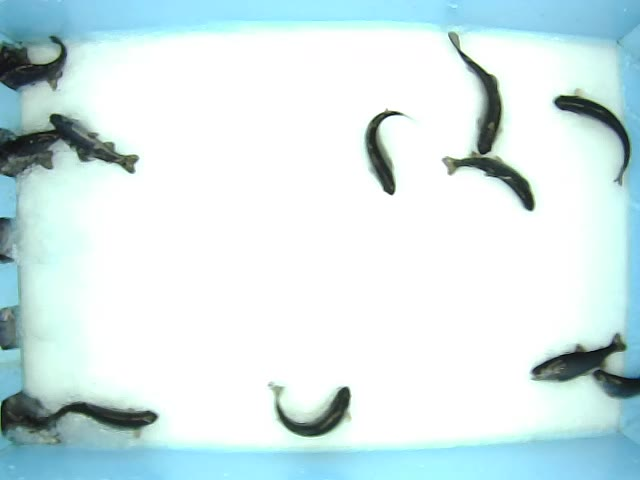fish: (549, 89, 633, 187), (447, 29, 503, 155), (441, 149, 538, 213), (49, 109, 140, 175), (528, 330, 628, 384), (42, 396, 159, 440), (360, 107, 415, 194), (271, 381, 352, 438)
